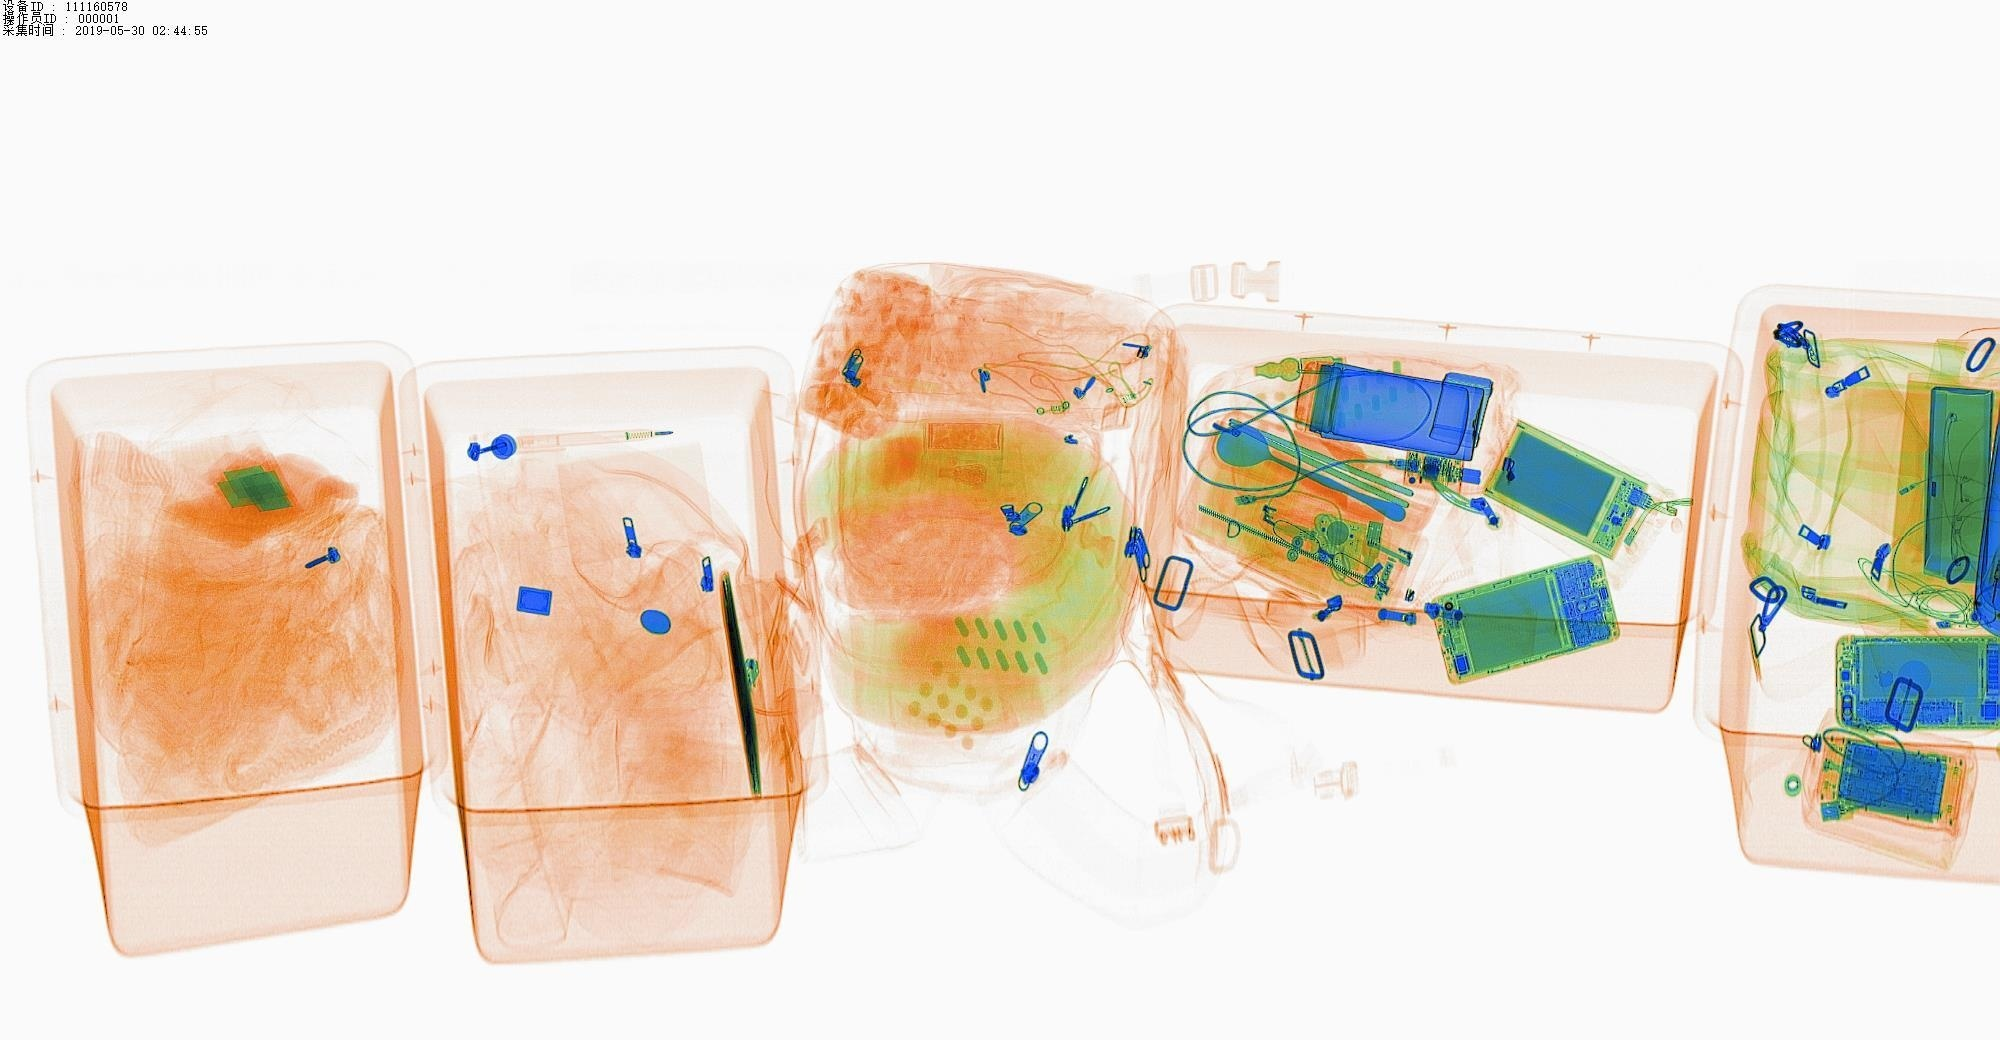NonmetallicFire: (738, 646, 787, 759)
